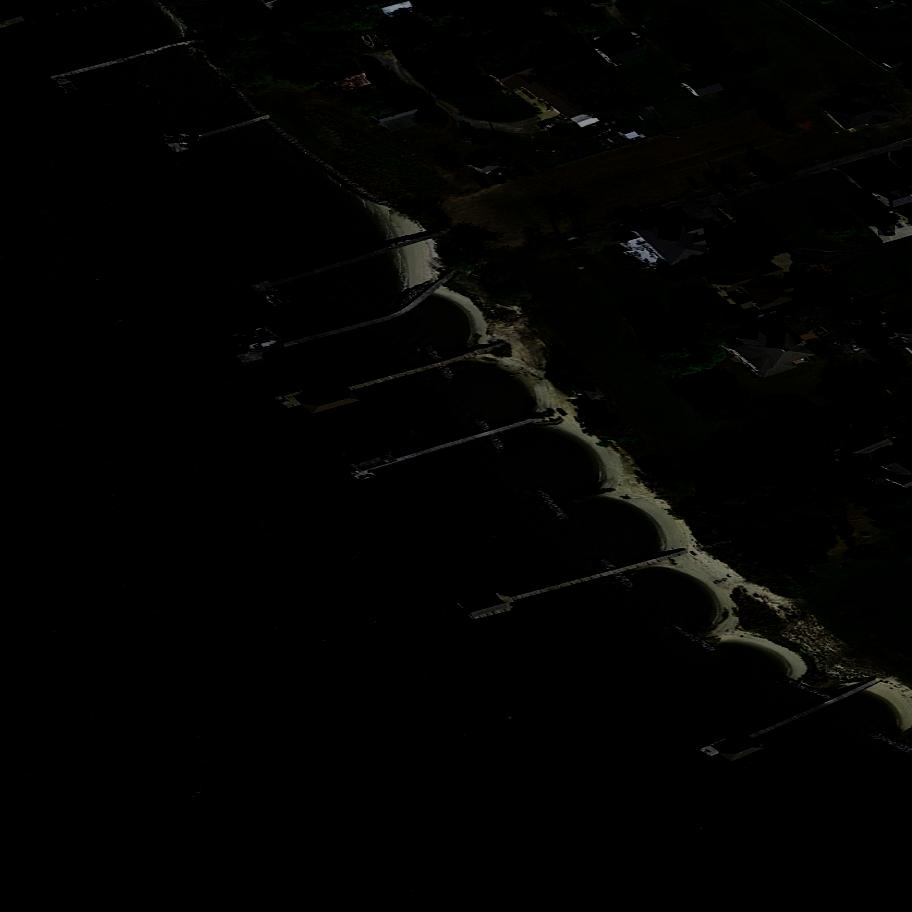ship: (245, 336, 284, 354), (260, 287, 287, 312), (360, 30, 383, 55), (158, 134, 197, 144)
small-vehicle: (491, 147, 511, 169), (845, 336, 867, 355), (625, 25, 646, 44), (600, 119, 629, 131), (550, 122, 571, 138), (837, 83, 860, 95), (541, 118, 559, 133), (878, 223, 895, 238), (858, 334, 873, 351), (887, 422, 906, 431), (795, 259, 815, 263)
